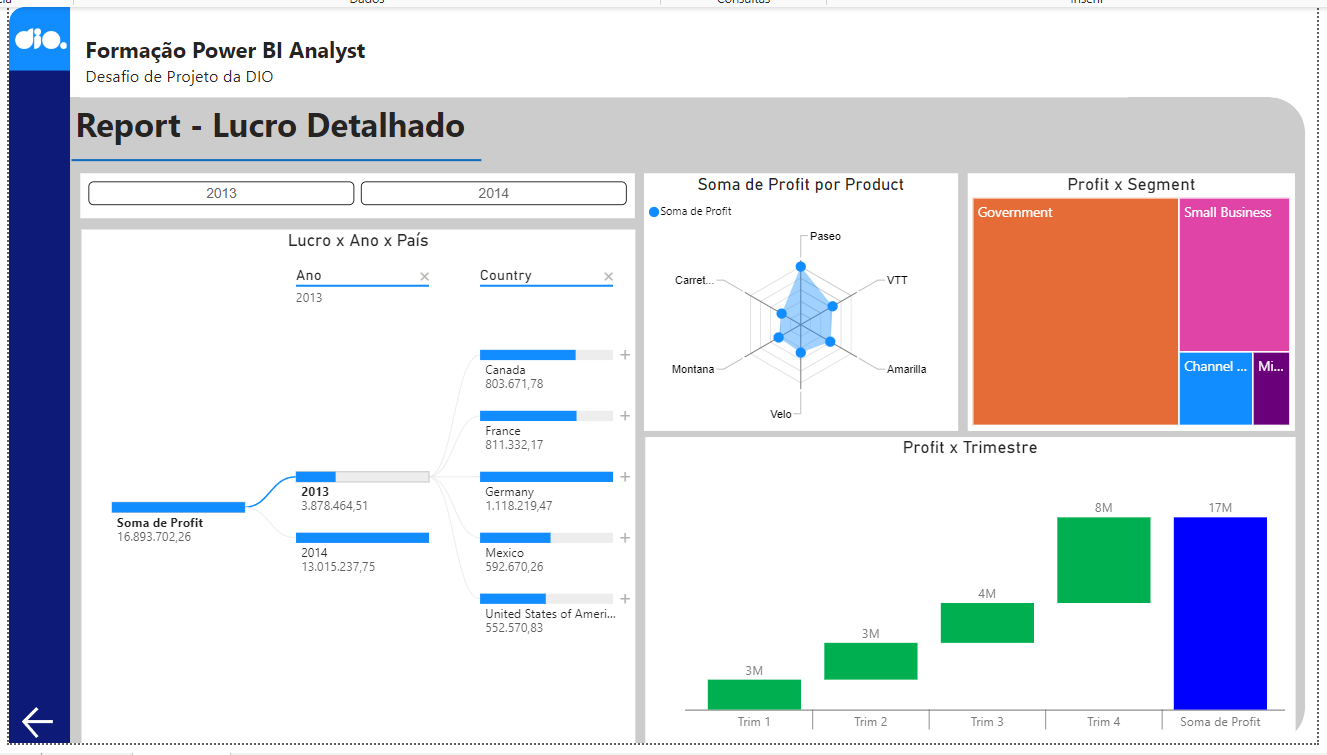

What the dashboard file says about the page in this screenshot:
{"tool":"powerbi","page":{"name":"Report","canvas":[1280,720],"ordinal":1},"visuals":[{"type":"shape","box":[69.9,22.2,1207.7,66],"z":0,"group":"g1"},{"type":"shape","box":[19.6,88,1248.1,632],"z":0},{"type":"textbox","box":[69.9,22.2,1024.4,66],"z":1000,"group":"g1"},{"type":"shape","box":[0,12.2,59.9,707.8],"z":1000},{"type":"shape","box":[0,0,59.9,62.3],"z":2000},{"type":"image","title":"logo_dio","box":[1.2,9.8,59.9,42.8],"z":3000},{"type":"actionButton","box":[8.6,679.7,44,40.3],"z":4000},{"type":"textbox","box":[59.9,88,402.2,74.6],"z":5000},{"type":"shape","box":[61.1,136.9,401,25.7],"z":6000},{"type":"group","id":"g1","title":"Cabeçalho","box":[69.9,22.2,1207.7,66],"z":7000},{"type":"ChicletSlicer1448559807354","fields":{"Category":["financials.Date.Variation.Hierarquia de datas.Ano"]},"box":[69.7,162.6,542.8,44],"z":7001},{"type":"decompositionTreeVisual","title":"Lucro x Ano x País","fields":{"Analyze":["Sum(financials.Profit)"],"ExplainBy":["financials.Date.Variation.Hierarquia de datas.Ano","financials.Country","financials.Segment"]},"box":[70.9,217.6,541.5,502.4],"z":7002},{"type":"RadarChart1446119667547","fields":{"Category":["financials.Product"],"Y":["Sum(financials.Profit)"]},"box":[621,162.6,306.8,251.8],"z":7003},{"type":"treemap","title":"Profit x Segment","fields":{"Group":["financials.Segment"],"Values":["Sum(financials.Profit)"]},"box":[937.6,162.6,320.3,251.8],"z":7004},{"type":"SimpleWaterfall","title":"Profit x Trimestre","fields":{"category":["financials.Date.Variation.Hierarquia de datas.Trimestre"],"measure":["Sum(financials.Profit)"]},"box":[622.2,420.5,635.7,299.5],"z":7005}]}

Visuals, with their boxes in screenshot pixels (x1, y1, x2, y2):
shape: [75,26,1310,94]
shape: [23,93,1300,740]
textbox: [75,26,1123,94]
shape: [3,16,65,740]
shape: [3,3,65,67]
"logo_dio" image: [5,13,66,57]
actionButton: [12,699,57,740]
textbox: [65,93,476,170]
shape: [66,143,476,170]
"Cabeçalho" group: [75,26,1310,94]
ChicletSlicer1448559807354 - financials.Date.Variation.Hierarquia de datas.Ano: [75,170,630,215]
"Lucro x Ano x País" decompositionTreeVisual: [76,226,630,740]
RadarChart1446119667547 - financials.Product x Sum(financials.Profit): [638,170,952,427]
"Profit x Segment" treemap: [962,170,1290,427]
"Profit x Trimestre" SimpleWaterfall: [640,433,1290,740]
